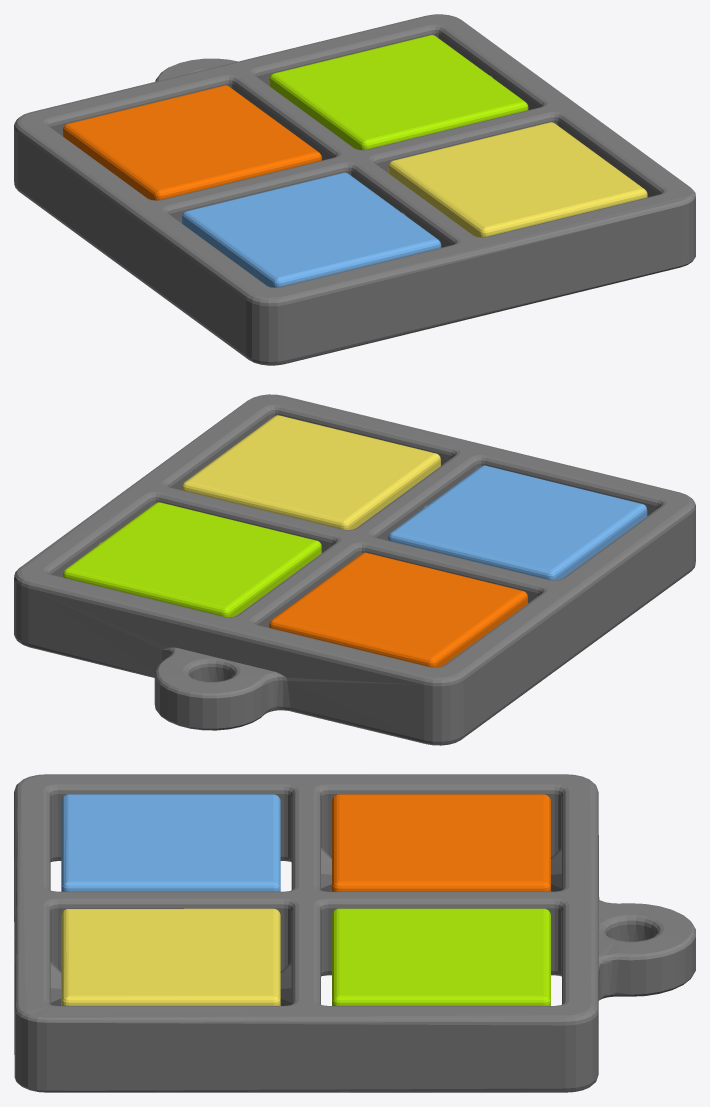
The model's file is keychain.gltf.
The picture shows the model from 3 angles, top to bottom: view 1: azimuth 30°, elevation 25°; view 2: azimuth 150°, elevation 25°; view 3: azimuth 270°, elevation 25°; orthographic projection. The views are drawn at different scales.
Size of the model in its own units: 0.04 by 0.00575 by 0.0467.
